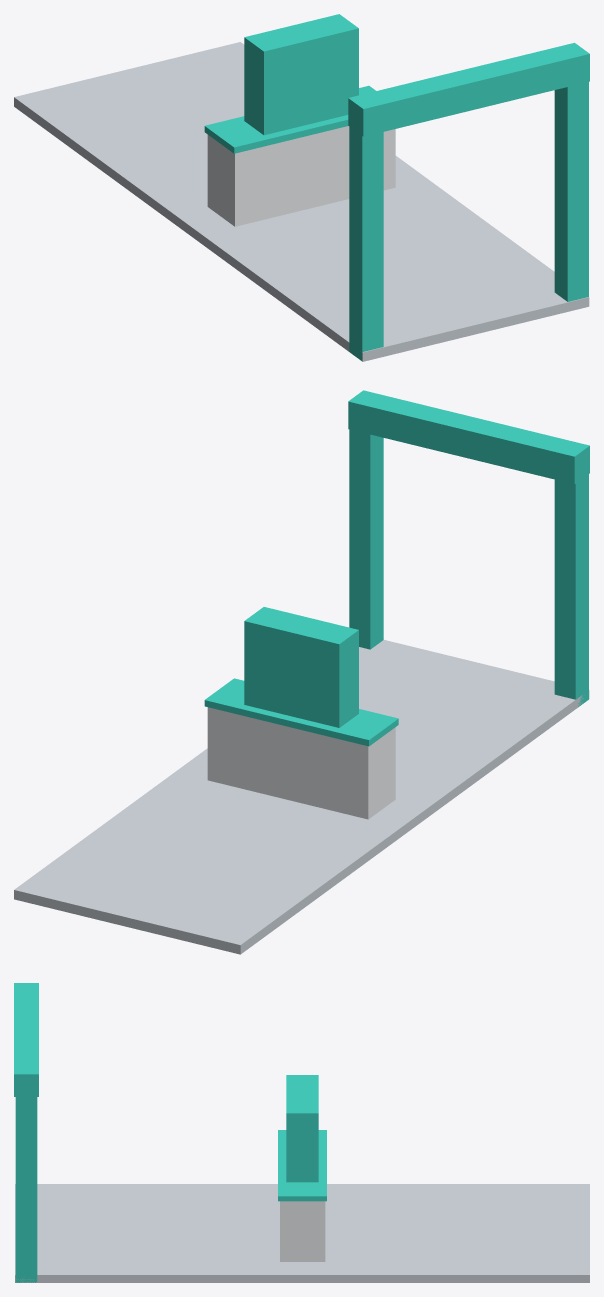
3 renders of one model, top to bottom at view 1: azimuth 30°, elevation 25°; view 2: azimuth 150°, elevation 25°; view 3: azimuth 270°, elevation 25°, orthographic. The views are drawn at different scales.
Visible parts, largest first — view 1: Exhibition Booth Concept; view 2: Exhibition Booth Concept; view 3: Exhibition Booth Concept.
Boxes of the visible parts, box(x1,y1,x2,y2) form: Exhibition Booth Concept: box(14, 14, 589, 361); Exhibition Booth Concept: box(14, 390, 589, 954); Exhibition Booth Concept: box(14, 983, 589, 1282).
Size of the model in its own units: 3 by 3.2 by 8.01.
